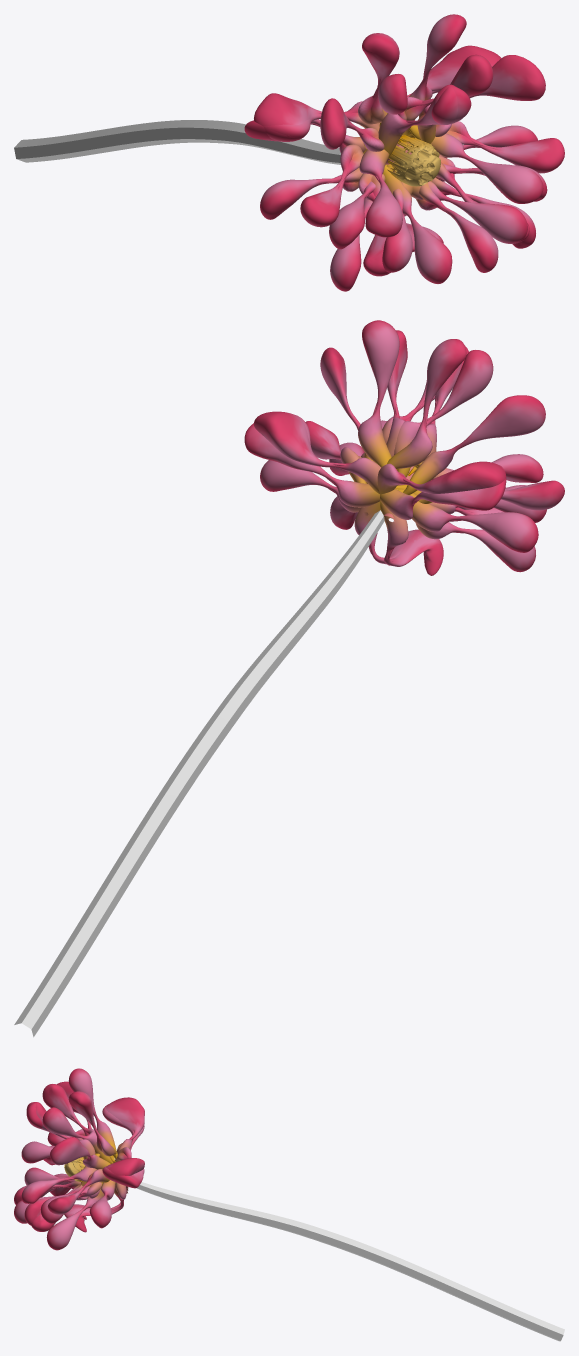
3 views of the same model, one above another, from view 1: azimuth 30°, elevation 25°; view 2: azimuth 150°, elevation 25°; view 3: azimuth 270°, elevation 25° (orthographic). The views are drawn at different scales.
Visible parts, largest first — view 1: LOD 1_634a5d68-0e51-5752-9ff0-c671a2fe1265; view 2: LOD 1_634a5d68-0e51-5752-9ff0-c671a2fe1265; view 3: LOD 1_634a5d68-0e51-5752-9ff0-c671a2fe1265.
Part boxes in pixels (box(x1,y1,x2,y2)): LOD 1_634a5d68-0e51-5752-9ff0-c671a2fe1265: box(14, 14, 564, 291); LOD 1_634a5d68-0e51-5752-9ff0-c671a2fe1265: box(14, 320, 564, 1037); LOD 1_634a5d68-0e51-5752-9ff0-c671a2fe1265: box(14, 1068, 564, 1341).
Size of the model in its own units: 5.91 by 8.7 by 16.68.
